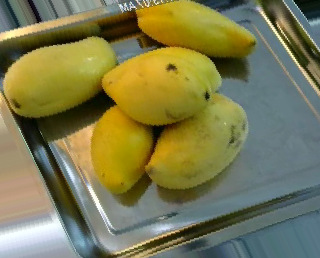Mango: (0, 32, 118, 117), (147, 92, 247, 190), (99, 56, 213, 132), (131, 0, 263, 61), (90, 99, 157, 196)
